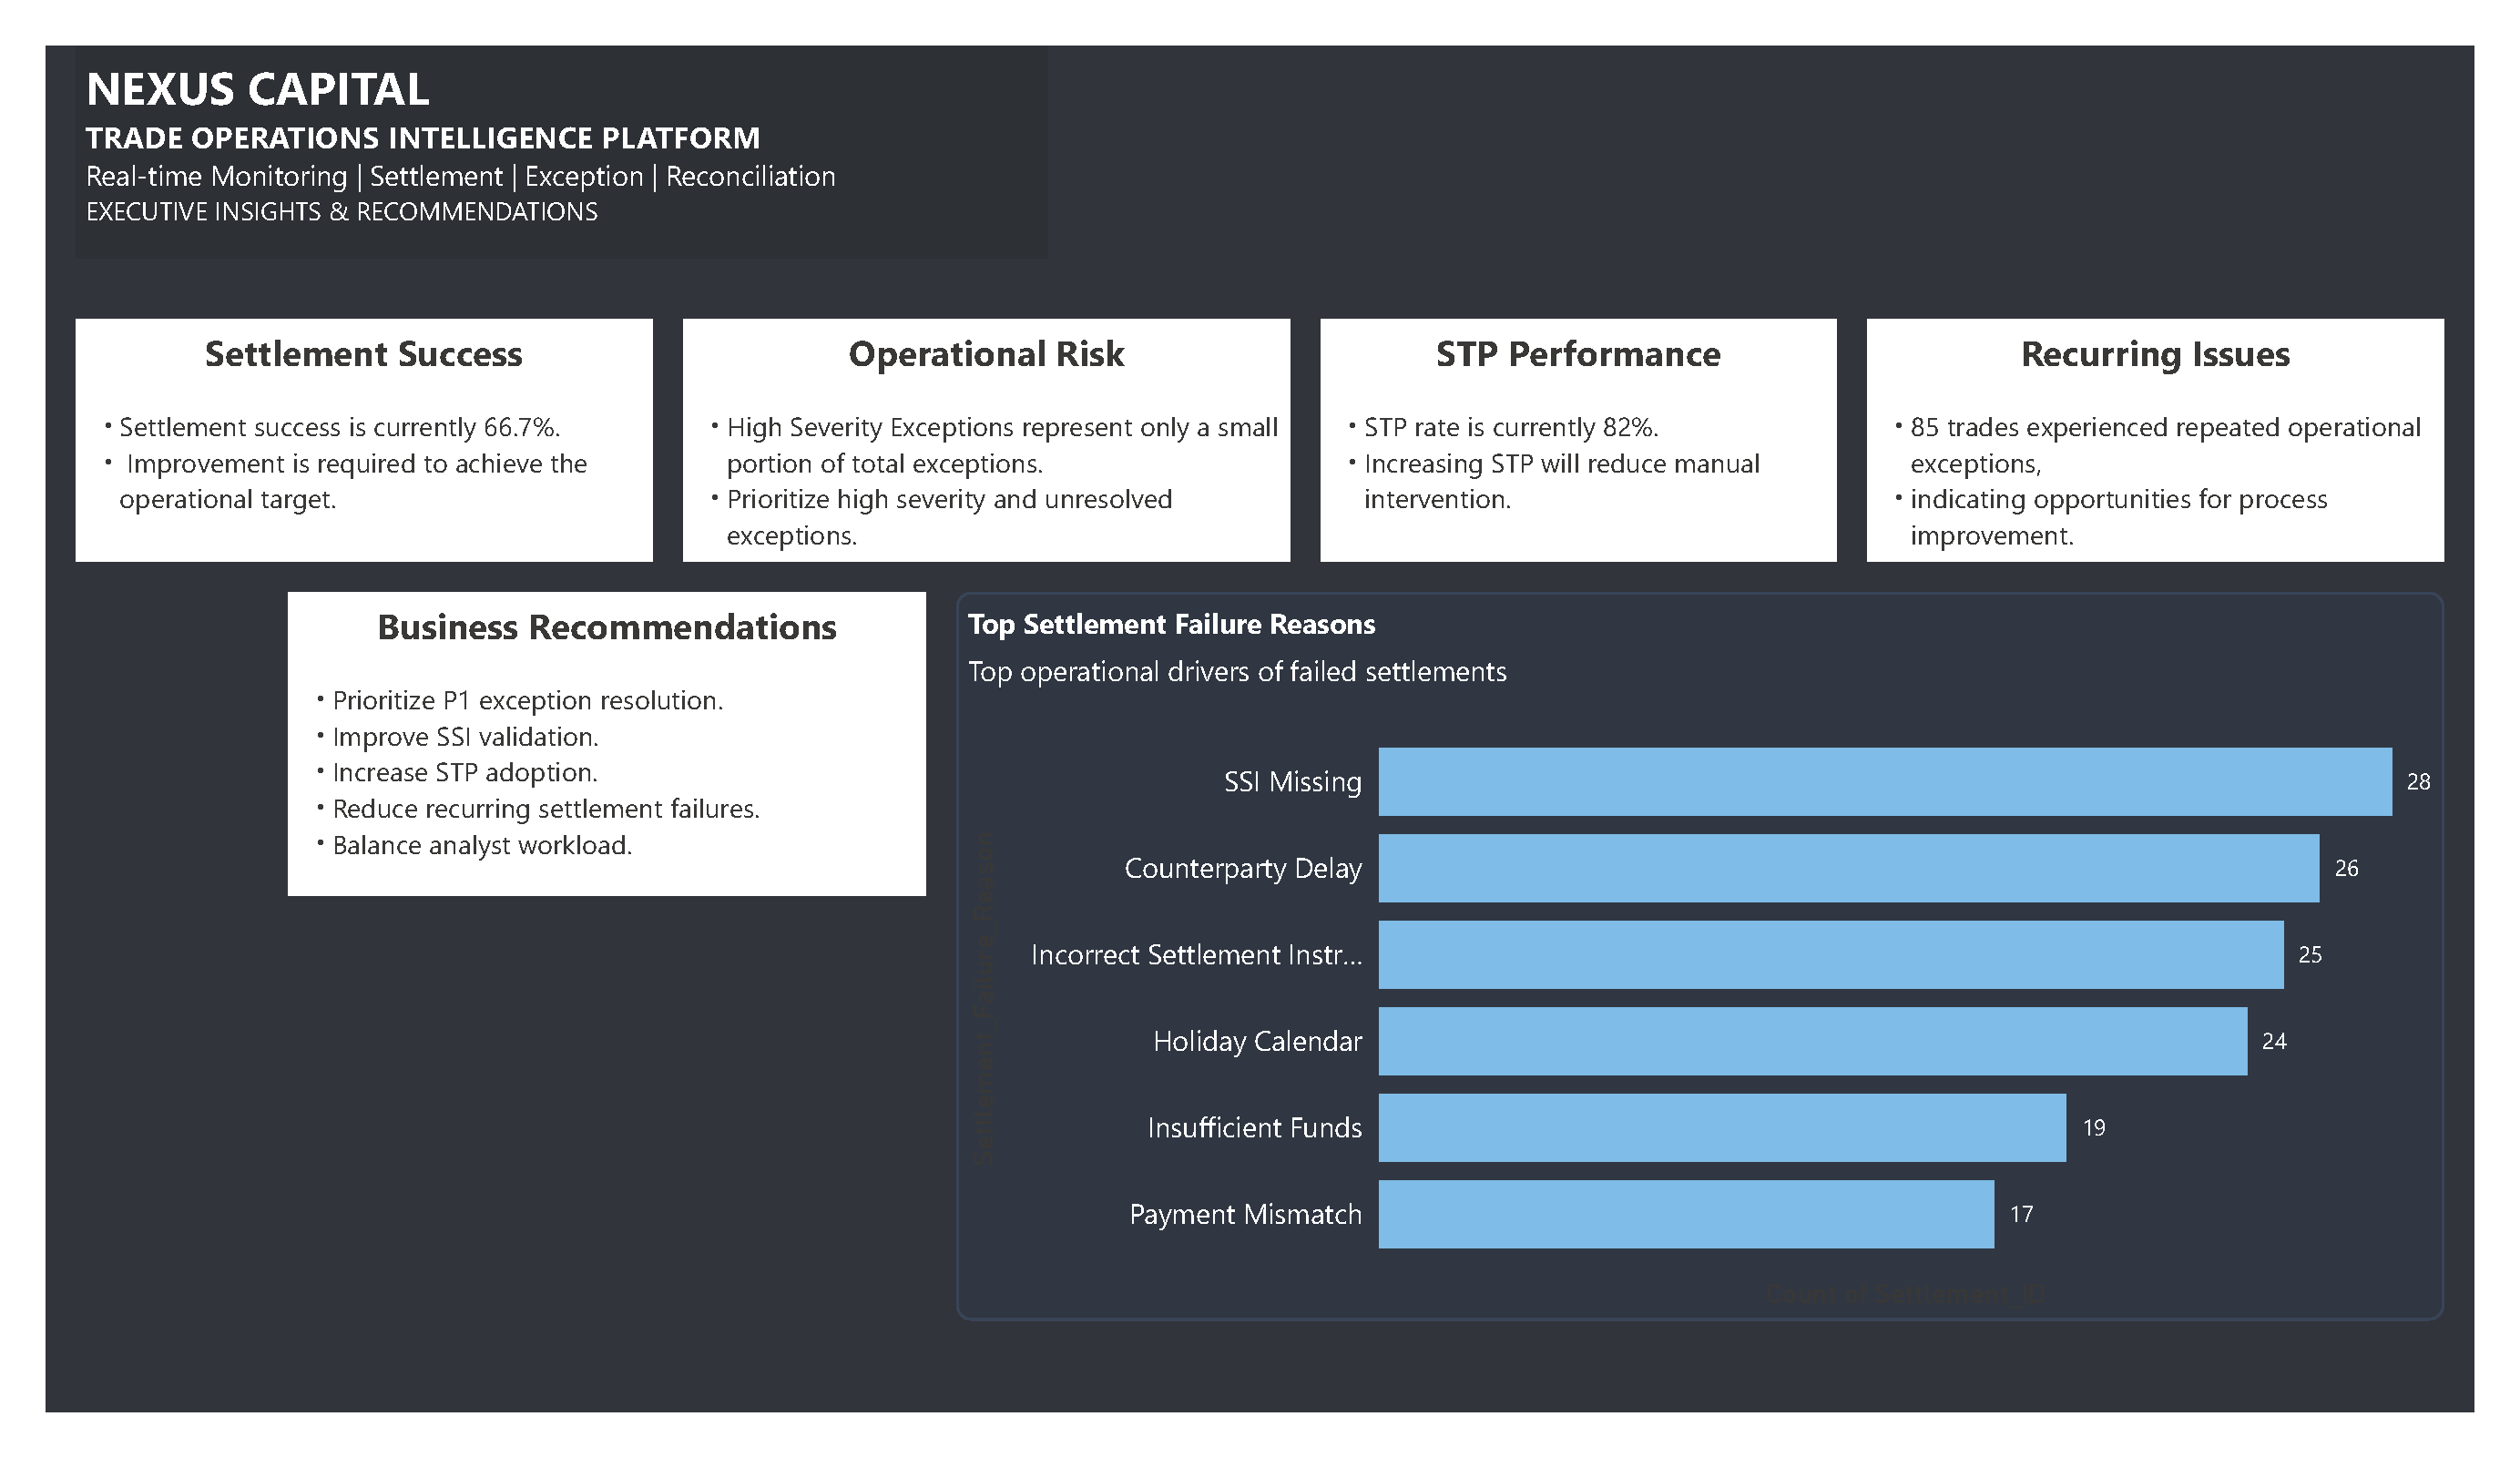

The dashboard page shown, as its layout file describes it:
{"tool":"powerbi","page":{"name":"💡 Executive Insights","canvas":[1280,720],"ordinal":4},"visuals":[{"type":"textbox","box":[16,0,512,112],"z":0},{"type":"textbox","box":[16,144,304,128],"z":1000},{"type":"textbox","box":[336,144,320,128],"z":2000},{"type":"textbox","box":[672,144,272,128],"z":3000},{"type":"textbox","box":[960,144,304,128],"z":4000},{"type":"textbox","box":[128,288,336,160],"z":5000},{"type":"barChart","title":"Top Settlement Failure Reasons","fields":{"Category":["Settlement.Settlement_Failure_Reason"],"Y":["CountNonNull(Settlement.Settlement_ID)"]},"box":[480,288,784,384],"z":6000}]}

Visuals, with their boxes in screenshot pixels (x1, y1, x2, y2):
textbox: bbox=[45, 33, 1038, 250]
textbox: bbox=[45, 312, 635, 561]
textbox: bbox=[666, 312, 1287, 561]
textbox: bbox=[1318, 312, 1846, 561]
textbox: bbox=[1877, 312, 2467, 561]
textbox: bbox=[261, 592, 914, 902]
"Top Settlement Failure Reasons" barChart: bbox=[945, 592, 2467, 1338]
